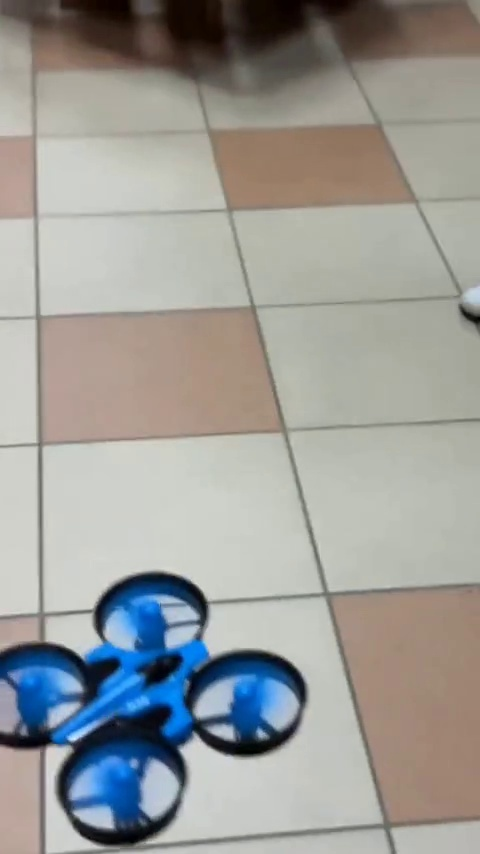drone: (0, 572, 300, 827)
